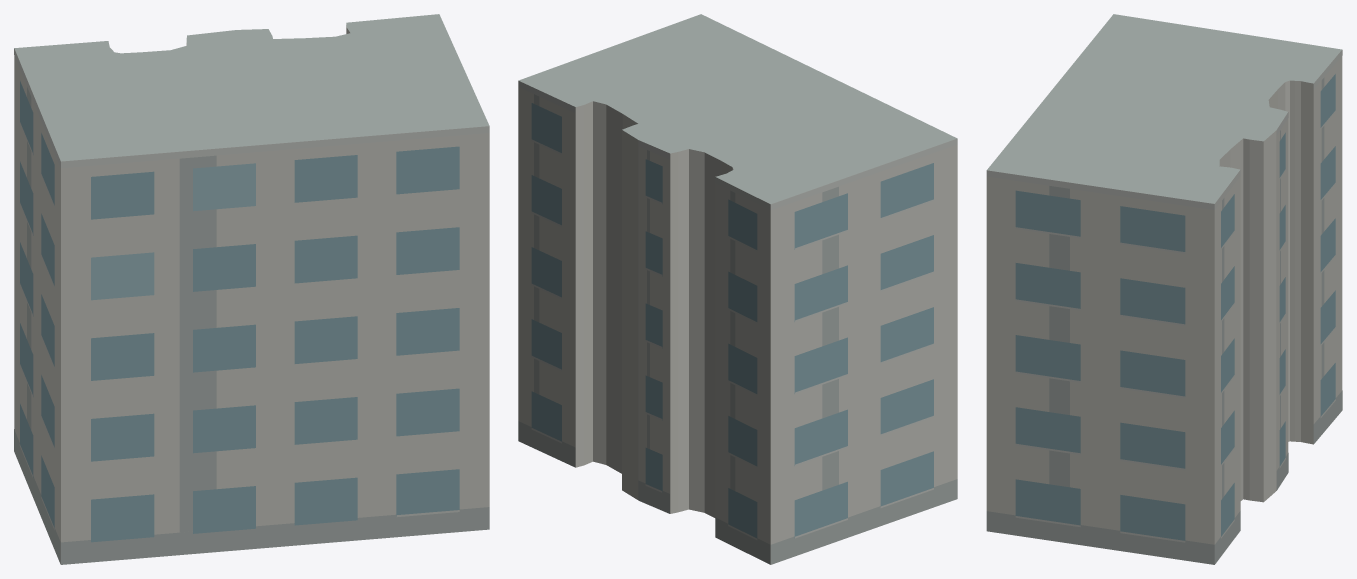
The model's file is survey-upis-32894339.glb.
3 renders of one model, left to right at view 1: azimuth 30°, elevation 25°; view 2: azimuth 150°, elevation 25°; view 3: azimuth 270°, elevation 25°, orthographic. The views are drawn at different scales.
Parts seen in each view (by area): view 1: survey-upis-32894339.tmp; view 2: survey-upis-32894339.tmp; view 3: survey-upis-32894339.tmp.
Boxes of the visible parts, box(x1,y1,x2,y2) form: survey-upis-32894339.tmp: box(14, 14, 489, 564); survey-upis-32894339.tmp: box(518, 14, 957, 564); survey-upis-32894339.tmp: box(986, 14, 1342, 564).
Bounding box in the file's own units: 15.98 × 14.15 × 12.65.
